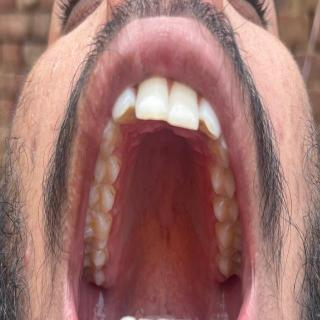maligned: (198, 90, 224, 145), (111, 86, 139, 137)
stains: (208, 161, 220, 189), (100, 246, 111, 270), (105, 180, 115, 204), (112, 154, 122, 178), (211, 192, 221, 214), (102, 211, 111, 233), (216, 252, 224, 274)
